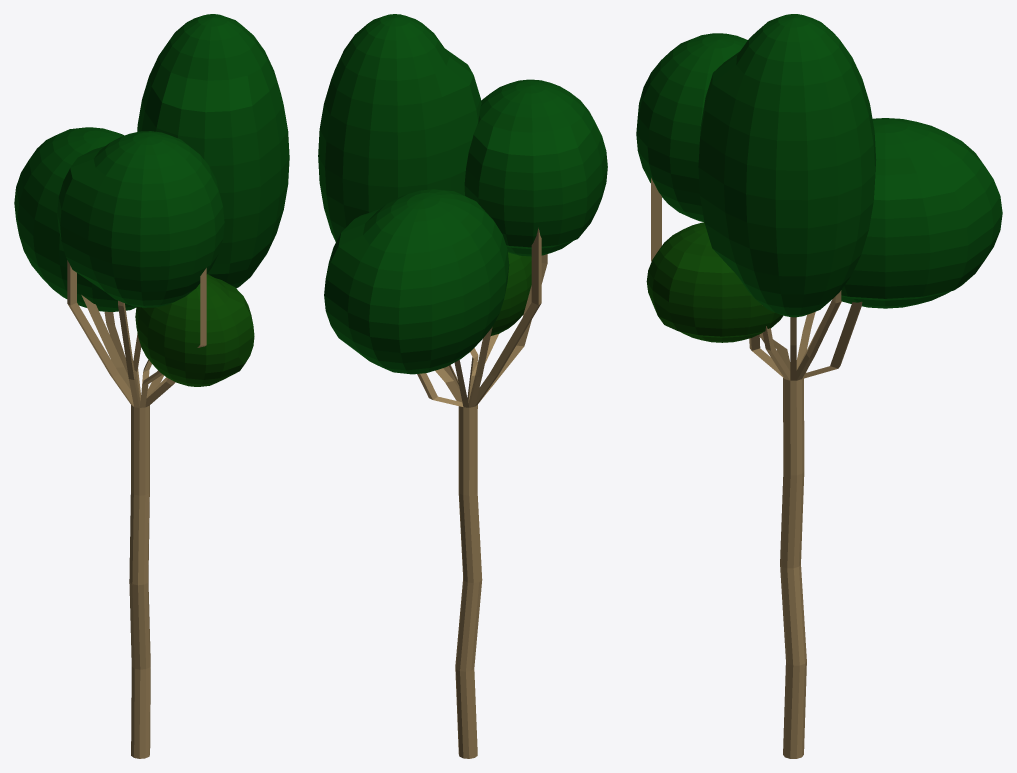
The model's file is Árbol.fbx.
3 renders of one model, left to right at view 1: azimuth 30°, elevation 25°; view 2: azimuth 150°, elevation 25°; view 3: azimuth 270°, elevation 25°, orthographic. The views are drawn at different scales.
Visible parts, largest first — view 1: Sphere.002, Sphere.001, Cylinder.002, Sphere.003, Sphere; view 2: Sphere, Sphere.002, Sphere.001, Cylinder.002, Sphere.003; view 3: Sphere.002, Sphere, Cylinder.002, Sphere.001, Sphere.003.
Boxes of the visible parts, x1=… form: Sphere.002: x1=137, y1=14, x2=289, y2=288; Sphere.001: x1=57, y1=131, x2=224, y2=307; Cylinder.002: x1=67, y1=260, x2=206, y2=758; Sphere.003: x1=135, y1=274, x2=254, y2=386; Sphere: x1=14, y1=127, x2=136, y2=311; Sphere: x1=324, y1=189, x2=509, y2=374; Sphere.002: x1=318, y1=14, x2=481, y2=241; Sphere.001: x1=464, y1=79, x2=607, y2=256; Cylinder.002: x1=417, y1=227, x2=547, y2=758; Sphere.003: x1=490, y1=252, x2=531, y2=335; Sphere.002: x1=698, y1=14, x2=876, y2=317; Sphere: x1=841, y1=118, x2=1002, y2=308; Cylinder.002: x1=651, y1=178, x2=862, y2=758; Sphere.001: x1=636, y1=33, x2=747, y2=221; Sphere.003: x1=646, y1=222, x2=783, y2=342.
Bounding box in the file's own units: 286 × 825 × 354.
